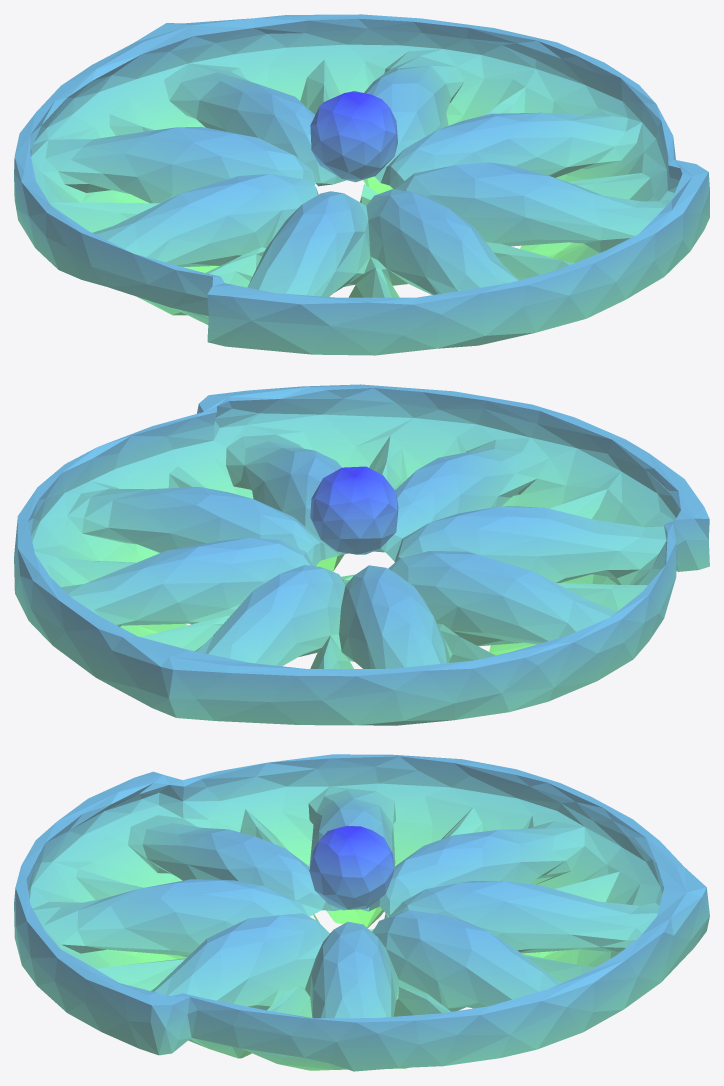
File: 132_cyb_laser_gradient_fish_scales_2923_2026_10_03_4eb27f.glb
The picture shows the model from 3 angles, top to bottom: view 1: azimuth 30°, elevation 25°; view 2: azimuth 150°, elevation 25°; view 3: azimuth 270°, elevation 25°; orthographic projection. The views are drawn at different scales.
Visible parts, largest first — view 1: geometry_0; view 2: geometry_0; view 3: geometry_0.
Part boxes in pixels (x1,y1,x2,y2): geometry_0: [14, 14, 709, 355]; geometry_0: [14, 384, 709, 725]; geometry_0: [14, 754, 709, 1071].
Bounding box in the file's own units: 0.9214 × 0.2764 × 1.
